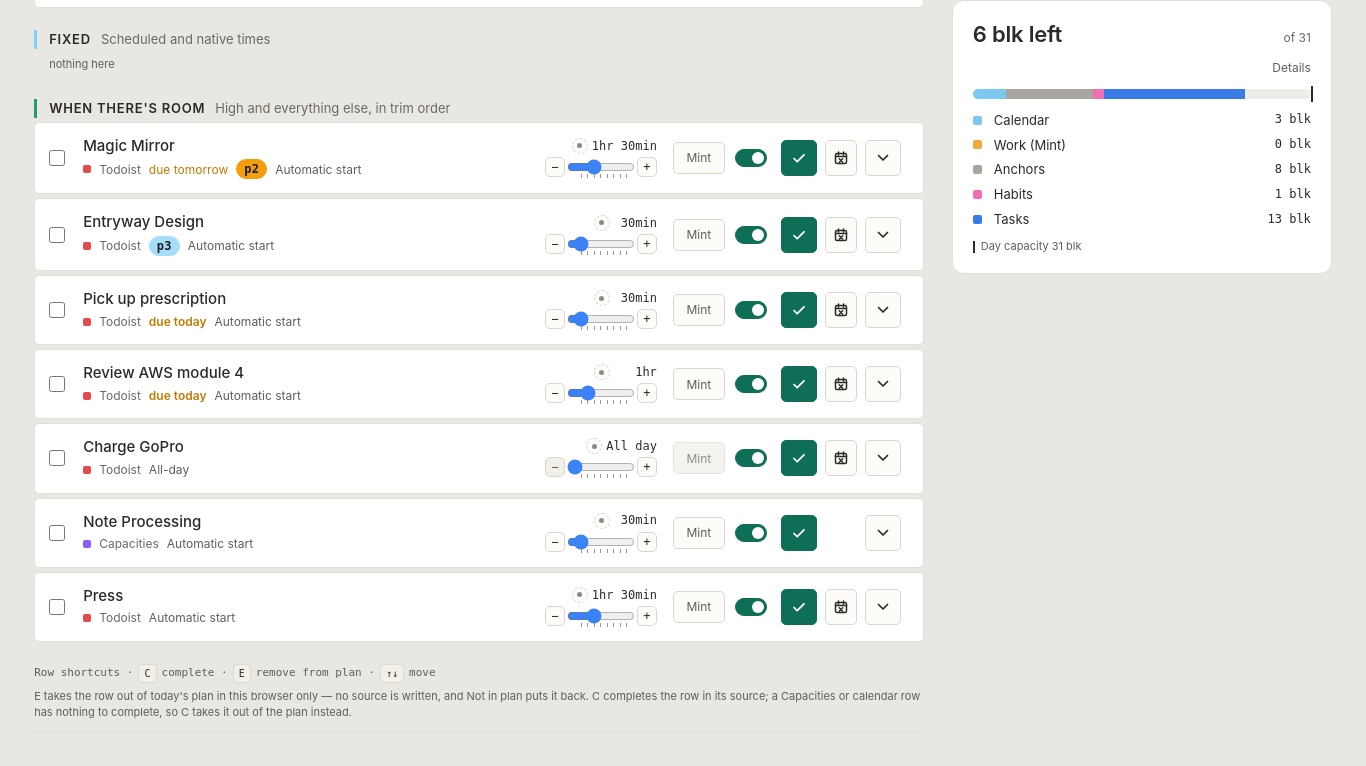
it: expanded row panel › renders line 1 controls without a Save/Discard step
The image size is (1366, 766).
(page scrolled)
Click the 7th button named "Expand" at {"x": 883, "y": 607}, box [865, 589, 901, 625]
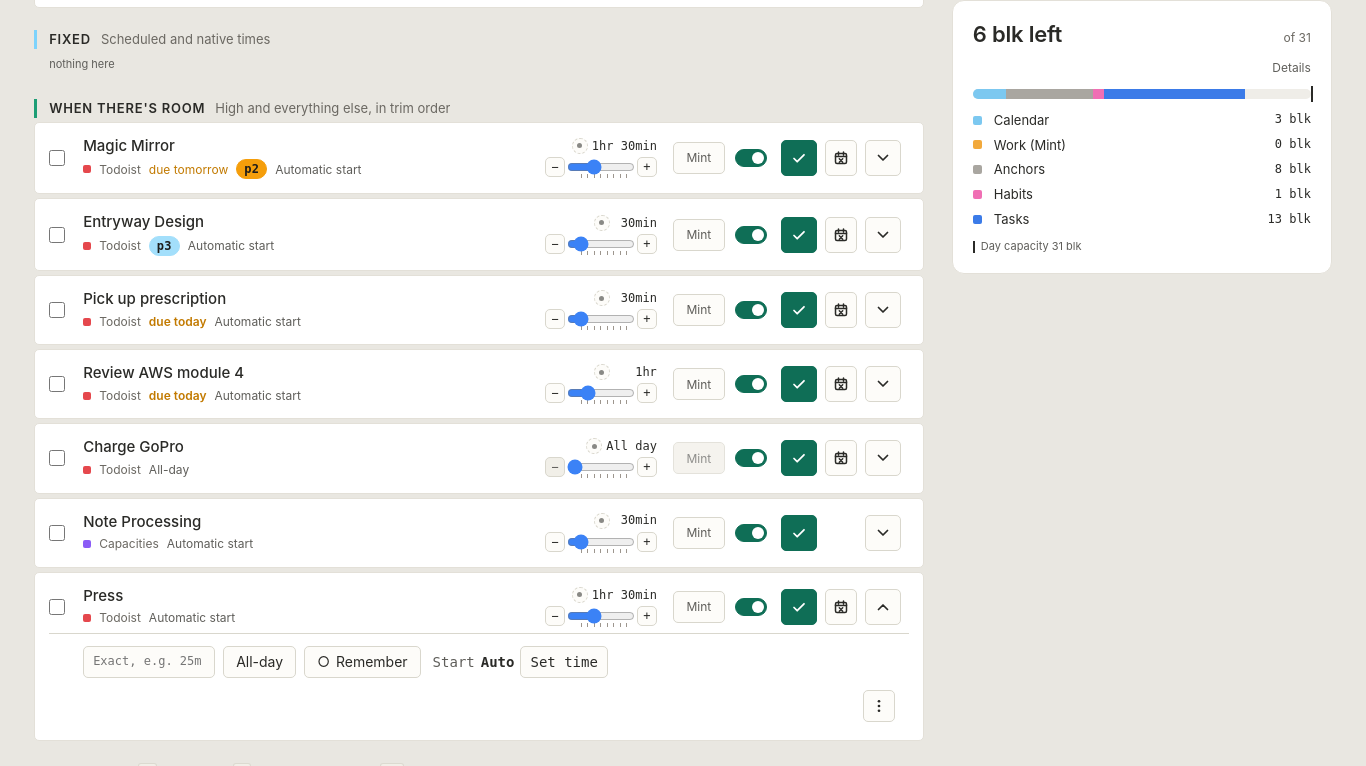
Check: the element that starts with "Press" shows "Auto", box [481, 654, 514, 670]
Check: the field named "Exact minutes" is empty, box [83, 646, 215, 678]
Check: the button "Set time" is shown, box [520, 646, 608, 678]
